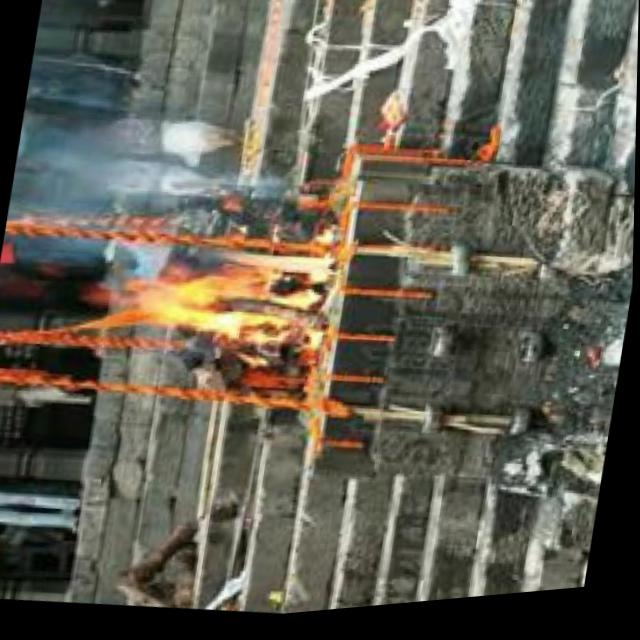Fire: (107, 228, 342, 369)
